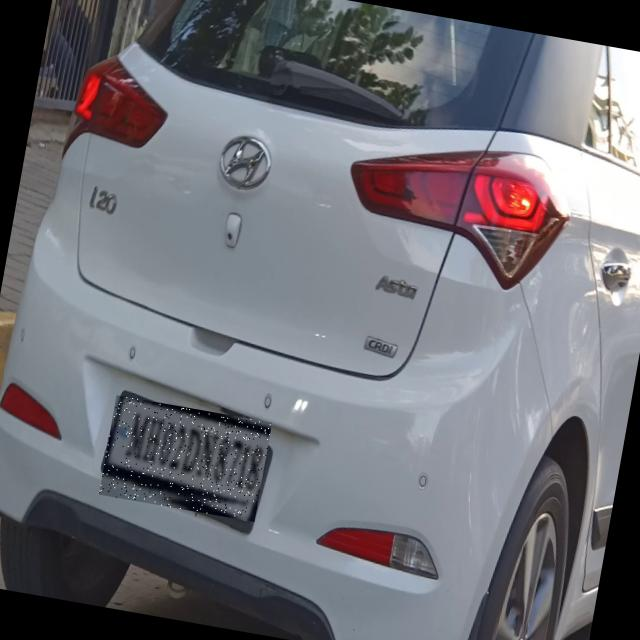Plate: (100, 396, 273, 523)
